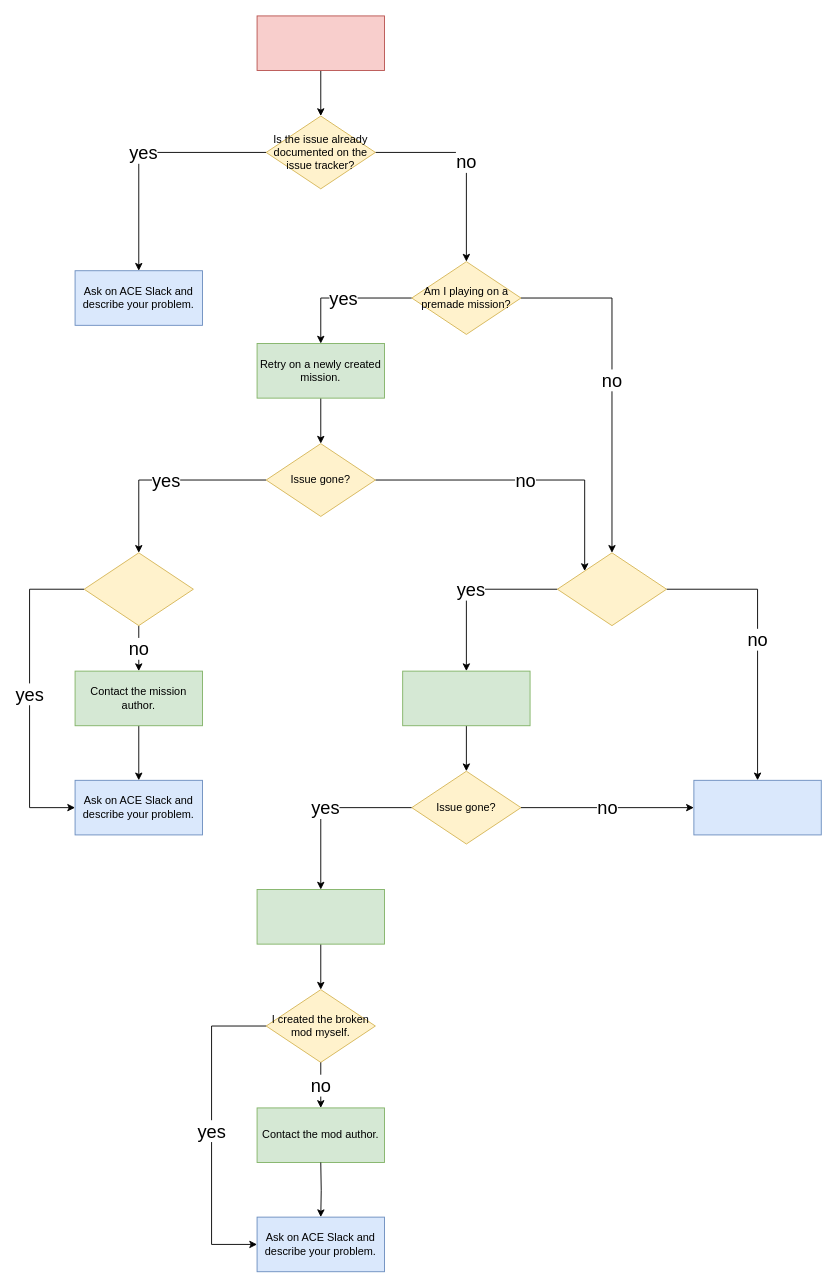
This 837x1288 diagram has some shape labels left out. Each missing label, with the box of its shape:
Am I playing with other mods?: (556, 552, 667, 626)
Disable all mods except CBA and ACE.: (402, 670, 530, 726)
Enable mod by mod until the issue re-appears.: (256, 889, 384, 944)
I created the broken mission myself.: (83, 552, 193, 626)
I encountered an issue with ACE.: (256, 15, 384, 71)
Post your issue on the ACE GitHub issue tracker and attach an RPT file.: (693, 779, 821, 835)
